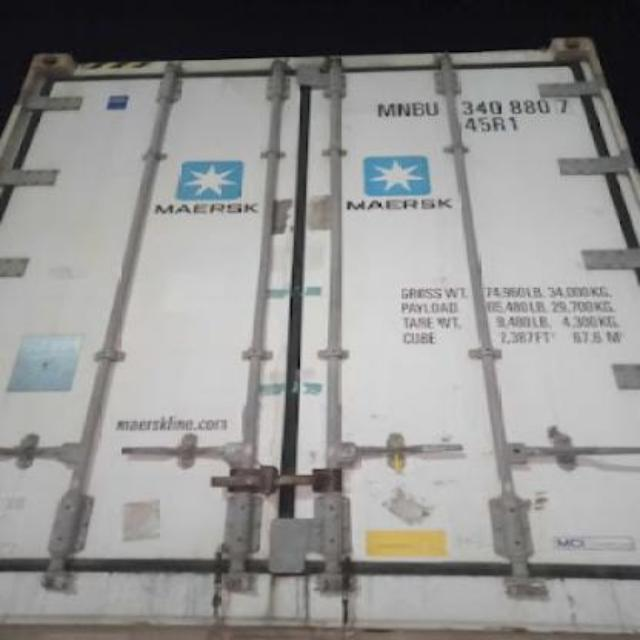0: (536, 94, 550, 115), (488, 97, 504, 113)
3: (458, 95, 474, 116)
4: (472, 96, 488, 114)
7: (556, 94, 570, 116)
8: (508, 94, 522, 114), (522, 94, 534, 116)
B: (411, 100, 424, 116)
M: (374, 100, 396, 120)
N: (396, 100, 412, 118)
U: (426, 98, 439, 120)
